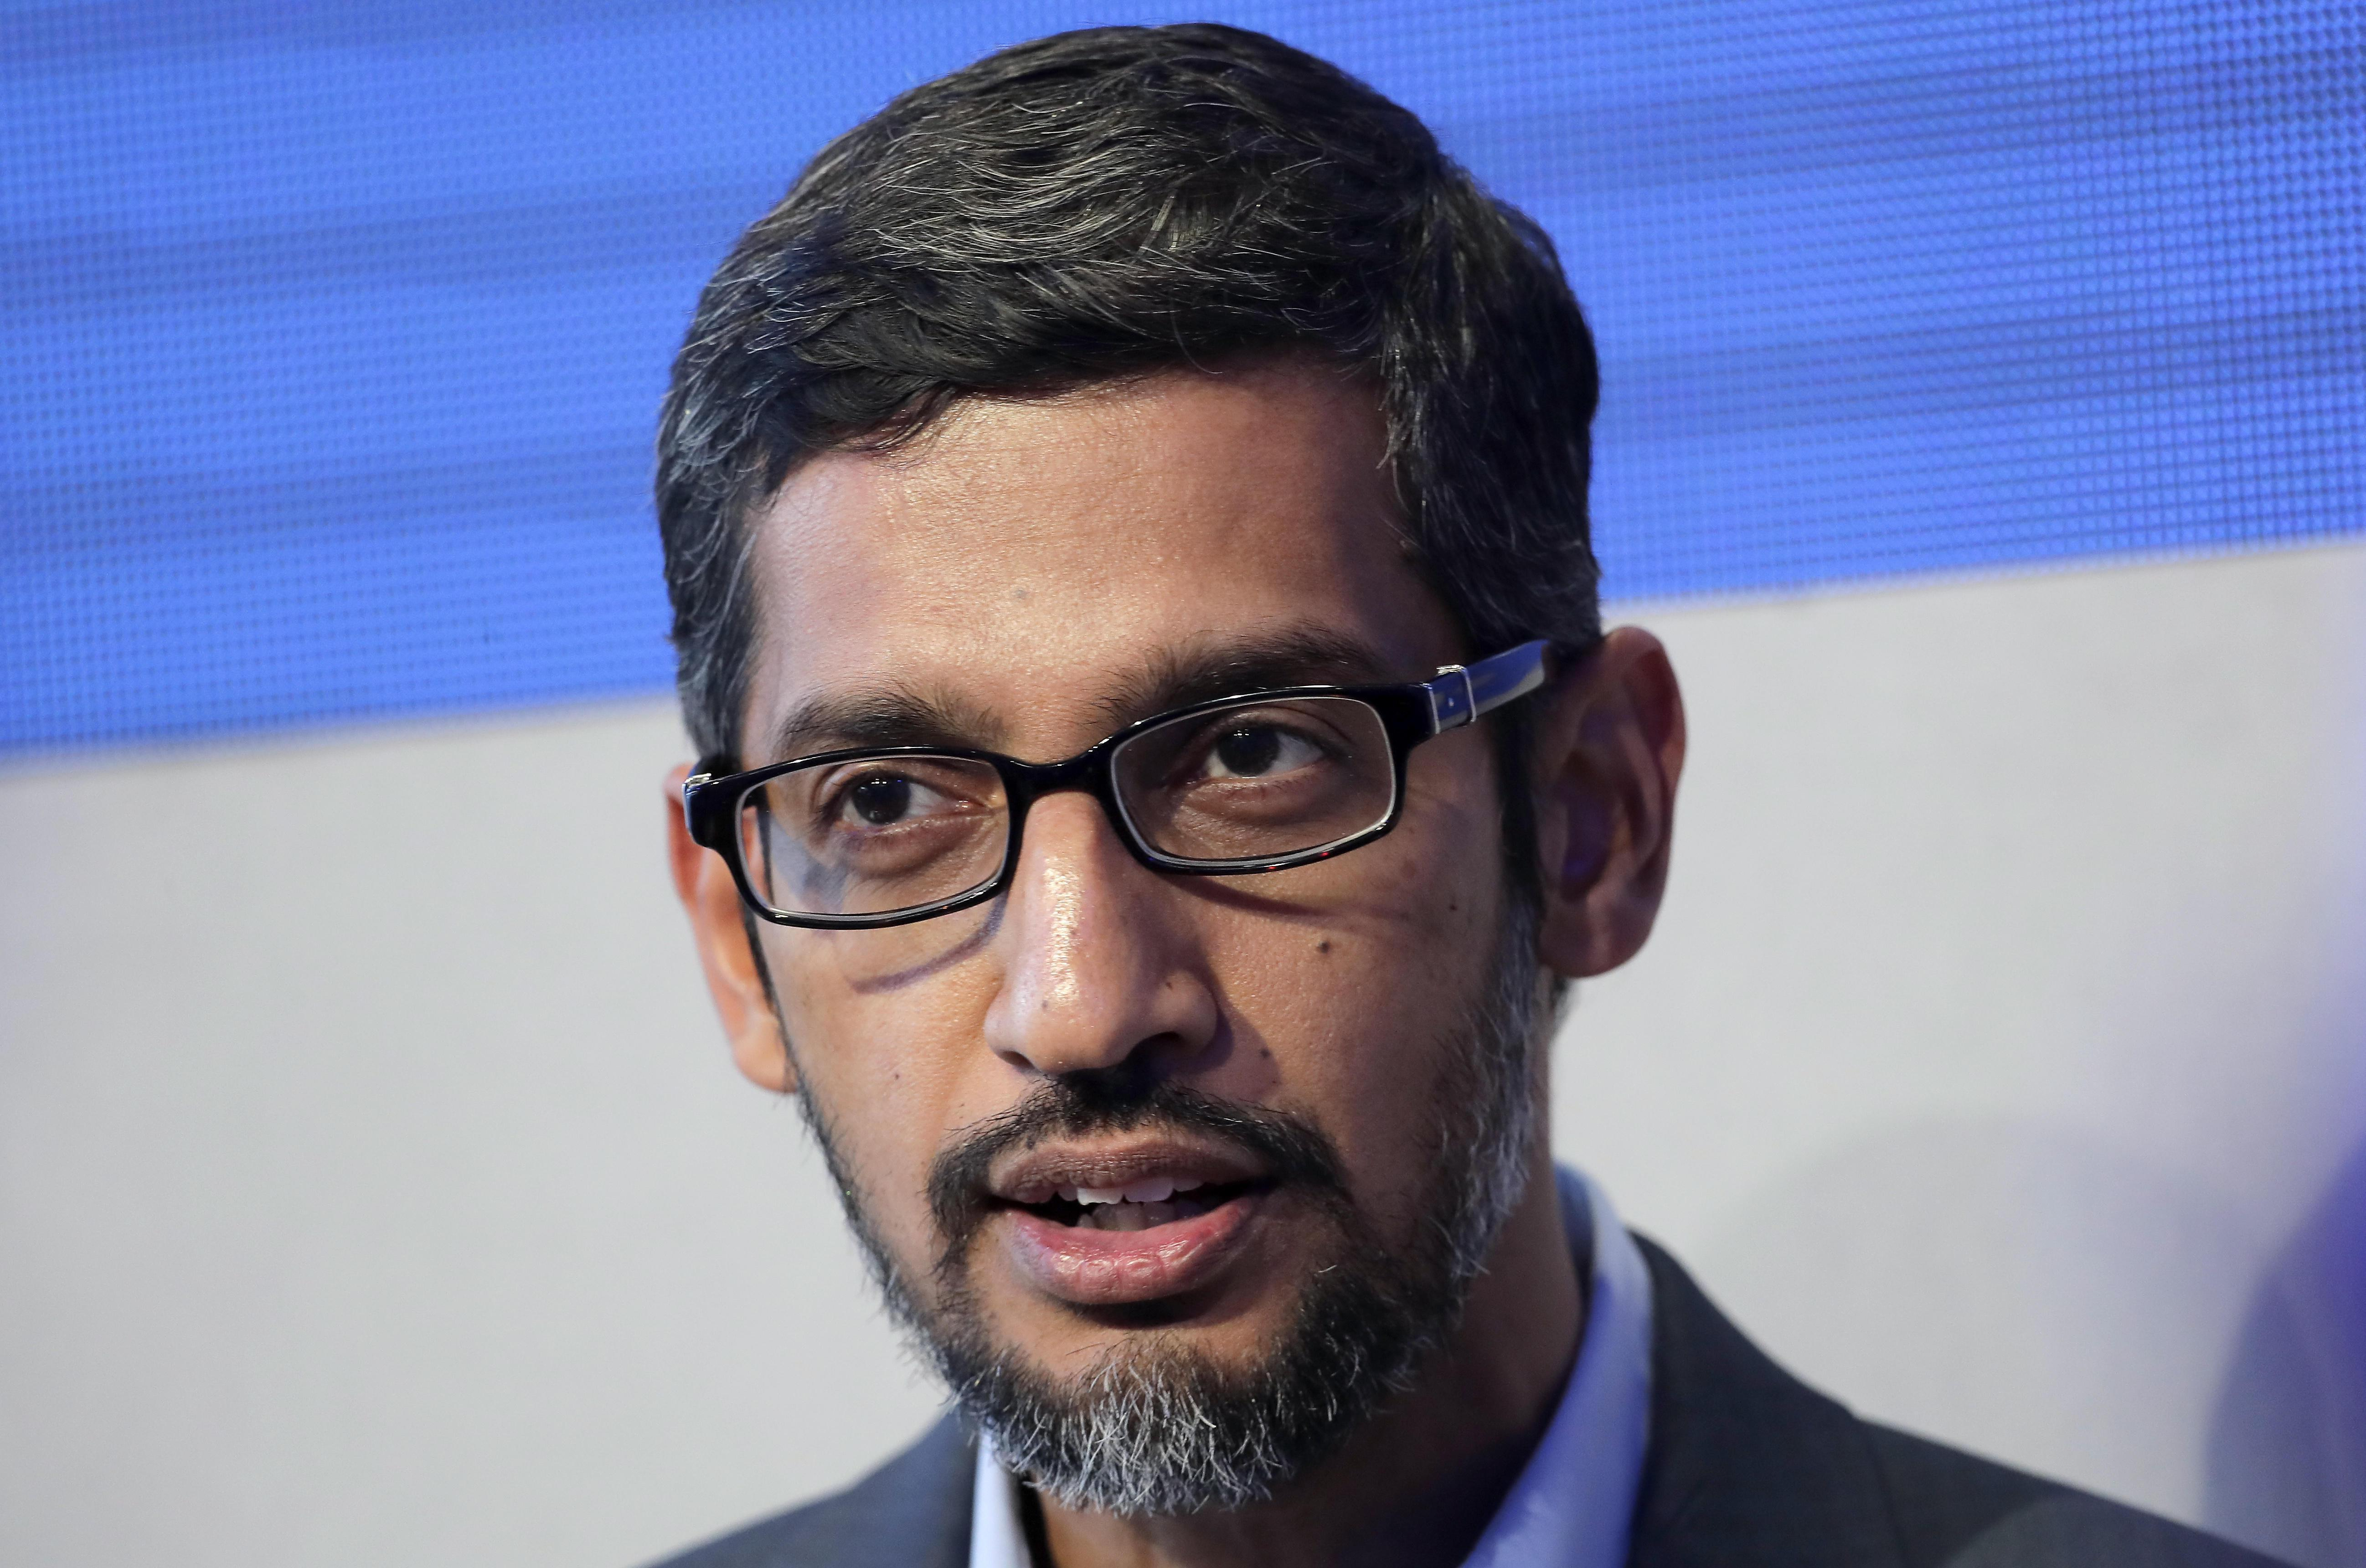Sober: (726, 434, 1498, 1342)
